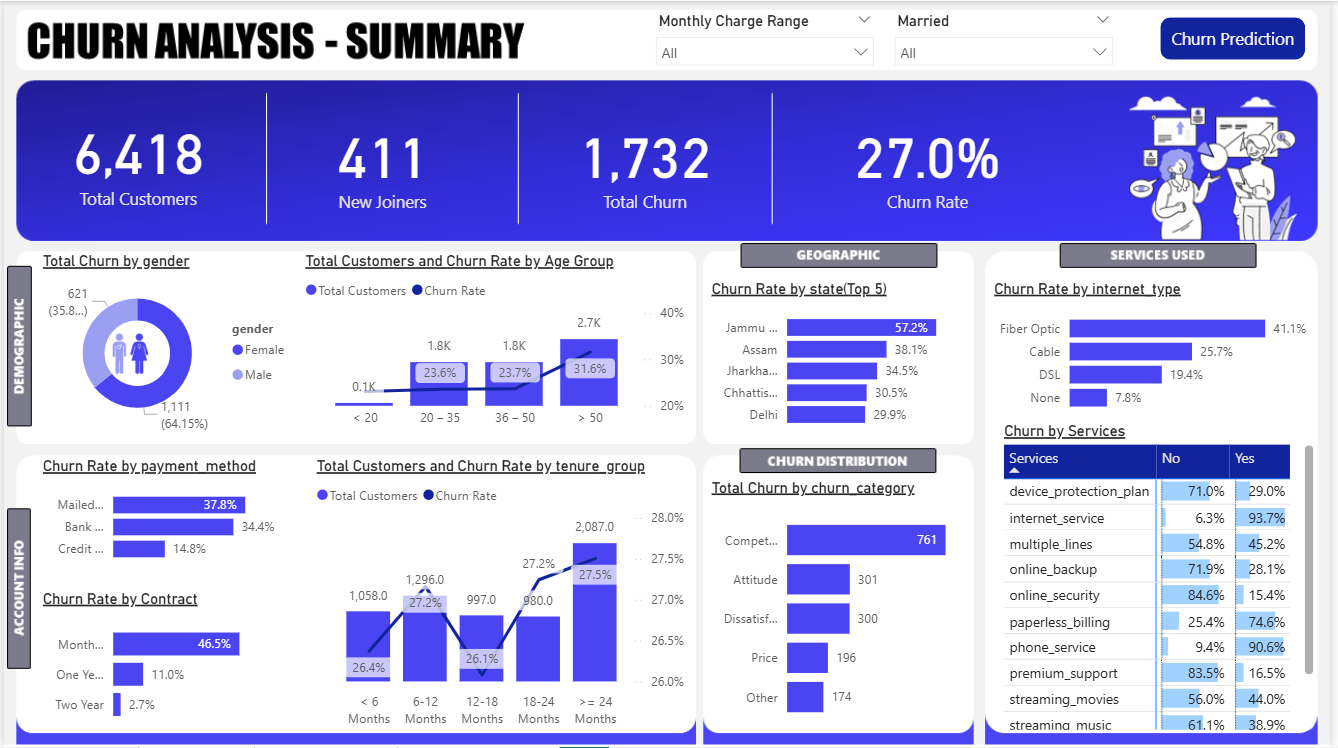

The page's visual inventory and layout, read from the dashboard file:
{"tool":"powerbi","page":{"name":"Summary","canvas":[1280,720],"ordinal":0},"visuals":[{"type":"card","fields":{"Values":["_measures.Total Customers"]},"box":[17.8,85.1,223.7,133.1],"z":0},{"type":"card","fields":{"Values":["_measures.New Joiners"]},"box":[225,85.1,279.9,140],"z":1000},{"type":"card","fields":{"Values":["_measures.Total Churn"]},"box":[478.9,85.1,279.9,140],"z":2000},{"type":"card","fields":{"Values":["_measures.Churn Rate"]},"box":[752,85.1,279.9,140],"z":3000},{"type":"donutChart","fields":{"Category":["public prod_churn.gender"],"Y":["_measures.Total Churn"]},"box":[32.9,242.9,252.5,178.4],"z":4000},{"type":"lineStackedColumnComboChart","fields":{"Y":["_measures.Total Customers"],"Y2":["_measures.Churn Rate"],"Category":["Mapping_AgeGrp.Age Group"]},"box":[285.4,242.9,376,178.4],"z":5000},{"type":"clusteredBarChart","fields":{"Category":["public prod_churn.payment_method"],"Y":["_measures.Churn Rate"]},"box":[32.9,440.5,238.8,111.1],"z":6000},{"type":"clusteredBarChart","title":"Churn Rate by Contract  ","fields":{"Y":["_measures.Churn Rate"],"Category":["public prod_churn.contract"]},"box":[32.9,568.1,238.8,140],"z":7000},{"type":"lineStackedColumnComboChart","fields":{"Y":["_measures.Total Customers"],"Y2":["_measures.Churn Rate"],"Category":["Mapping_TenureGrp.tenure_group"]},"box":[296.4,440.5,365,267.6],"z":8000},{"type":"clusteredBarChart","title":"Churn Rate by state(Top 5)","fields":{"Category":["public prod_churn.state"],"Y":["_measures.Churn Rate"]},"box":[677.9,269,260.7,152.3],"z":9000},{"type":"clusteredBarChart","fields":{"Category":["public prod_churn.churn_category"],"Y":["_measures.Total Churn"]},"box":[677.9,461.1,260.7,247],"z":10000},{"type":"clusteredBarChart","fields":{"Category":["public prod_churn.internet_type"],"Y":["_measures.Churn Rate"]},"box":[950.9,269,318.4,137.2],"z":11000},{"type":"pivotTable","title":"Churn by Services","fields":{"Rows":["prod_services.Services"],"Columns":["prod_services.Status"],"Values":["Sum(prod_services.churn_status )"]},"box":[960.6,406.2,308.7,301.9],"z":12000},{"type":"slicer","fields":{"Values":["public prod_churn.monthly_charge_range"]},"box":[618.9,5.5,230.5,60.4],"z":13000},{"type":"image","box":[91.9,310.1,60.4,59],"z":13500},{"type":"slicer","fields":{"Values":["public prod_churn.married"]},"box":[849.4,5.5,230.5,60.4],"z":14000},{"type":"shape","box":[1115.6,15.1,140,41.2],"z":14001}]}

Visuals, with their boxes in screenshot pixels (x1, y1, x2, y2), scaled from the page's 1280x720 canvas onto the 1338x748 screenshot:
card - _measures.Total Customers: {"x1": 19, "y1": 88, "x2": 252, "y2": 227}
card - _measures.New Joiners: {"x1": 235, "y1": 88, "x2": 528, "y2": 234}
card - _measures.Total Churn: {"x1": 501, "y1": 88, "x2": 793, "y2": 234}
card - _measures.Churn Rate: {"x1": 786, "y1": 88, "x2": 1079, "y2": 234}
donutChart - public prod_churn.gender x _measures.Total Churn: {"x1": 34, "y1": 252, "x2": 298, "y2": 438}
lineStackedColumnComboChart - _measures.Total Customers x _measures.Churn Rate: {"x1": 298, "y1": 252, "x2": 691, "y2": 438}
clusteredBarChart - public prod_churn.payment_method x _measures.Churn Rate: {"x1": 34, "y1": 458, "x2": 284, "y2": 573}
"Churn Rate by Contract  " clusteredBarChart: {"x1": 34, "y1": 590, "x2": 284, "y2": 736}
lineStackedColumnComboChart - _measures.Total Customers x _measures.Churn Rate: {"x1": 310, "y1": 458, "x2": 691, "y2": 736}
"Churn Rate by state(Top 5)" clusteredBarChart: {"x1": 709, "y1": 279, "x2": 981, "y2": 438}
clusteredBarChart - public prod_churn.churn_category x _measures.Total Churn: {"x1": 709, "y1": 479, "x2": 981, "y2": 736}
clusteredBarChart - public prod_churn.internet_type x _measures.Churn Rate: {"x1": 994, "y1": 279, "x2": 1327, "y2": 422}
"Churn by Services" pivotTable: {"x1": 1004, "y1": 422, "x2": 1327, "y2": 736}
slicer - public prod_churn.monthly_charge_range: {"x1": 647, "y1": 6, "x2": 888, "y2": 68}
image: {"x1": 96, "y1": 322, "x2": 159, "y2": 383}
slicer - public prod_churn.married: {"x1": 888, "y1": 6, "x2": 1129, "y2": 68}
shape: {"x1": 1166, "y1": 16, "x2": 1312, "y2": 58}
